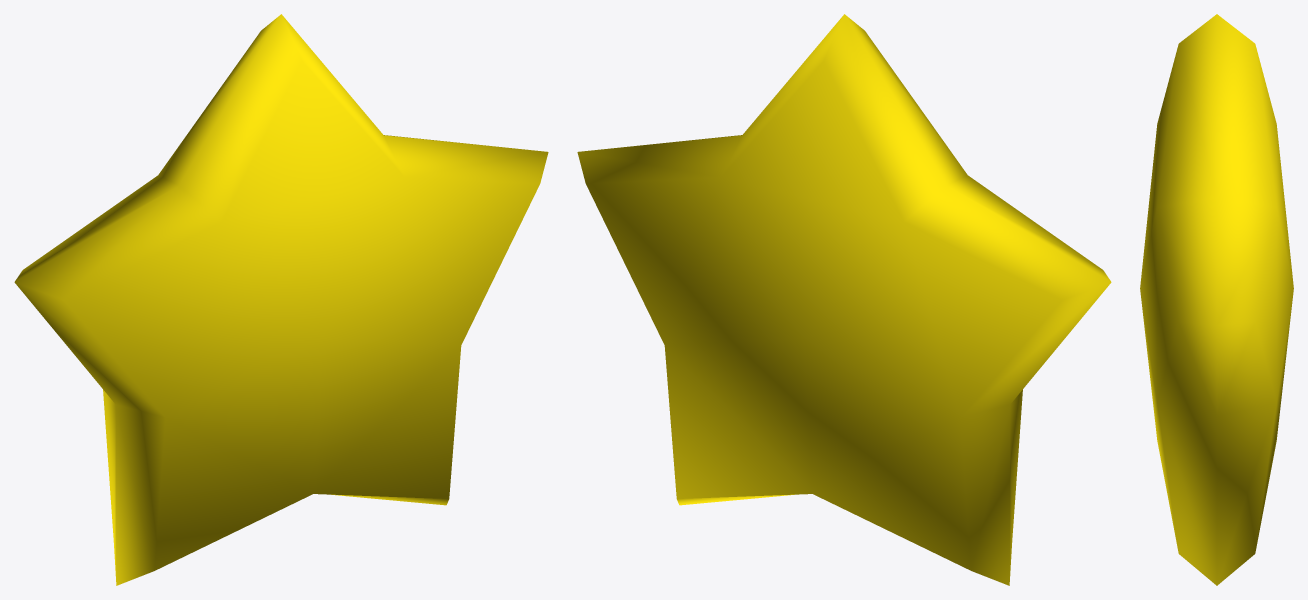
The model's file is Star.fbx.
3 views of the same model, side by side, from view 1: azimuth 30°, elevation 25°; view 2: azimuth 150°, elevation 25°; view 3: azimuth 270°, elevation 25° (orthographic). The views are drawn at different scales.
Parts seen in each view (by area): view 1: star; view 2: star; view 3: star.
Boxes of the visible parts, box(x1,y1,x2,y2) form: star: box(14, 14, 548, 585); star: box(577, 14, 1111, 585); star: box(1140, 14, 1293, 585).
Size of the model in its own units: 107 by 101 by 28.48.
